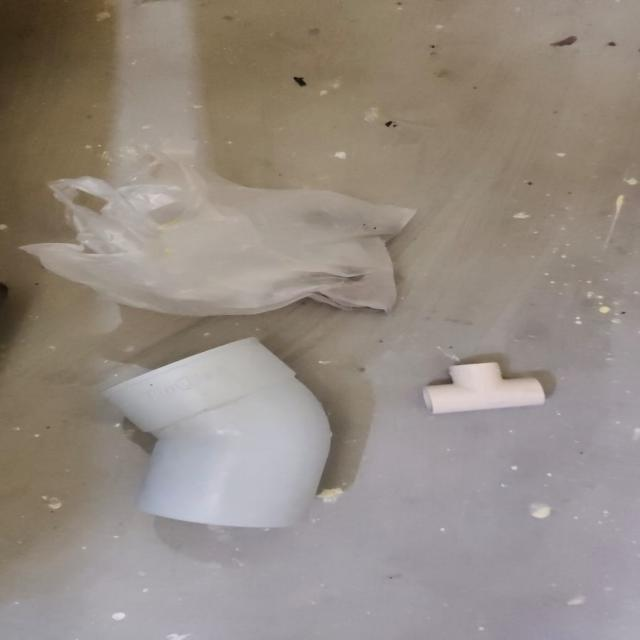plastic: (52, 331, 389, 531), (31, 154, 429, 316), (406, 351, 565, 429)
